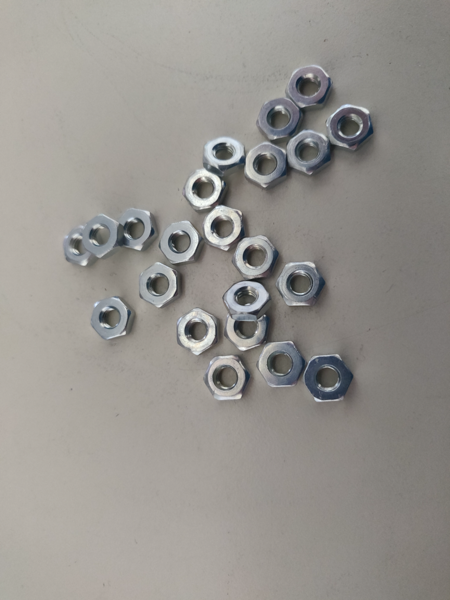nut: (202, 354, 252, 404), (305, 355, 354, 403), (328, 105, 375, 153), (177, 307, 224, 354), (244, 141, 289, 190), (278, 262, 327, 306), (288, 65, 333, 112), (256, 342, 302, 387), (288, 130, 333, 176), (224, 278, 270, 321), (138, 261, 180, 308), (91, 294, 133, 340), (257, 98, 300, 142), (235, 234, 278, 277), (203, 207, 242, 253), (82, 214, 121, 260), (161, 221, 200, 264), (185, 170, 225, 211), (204, 136, 245, 175), (120, 209, 157, 252), (228, 312, 265, 352), (64, 225, 91, 266)
